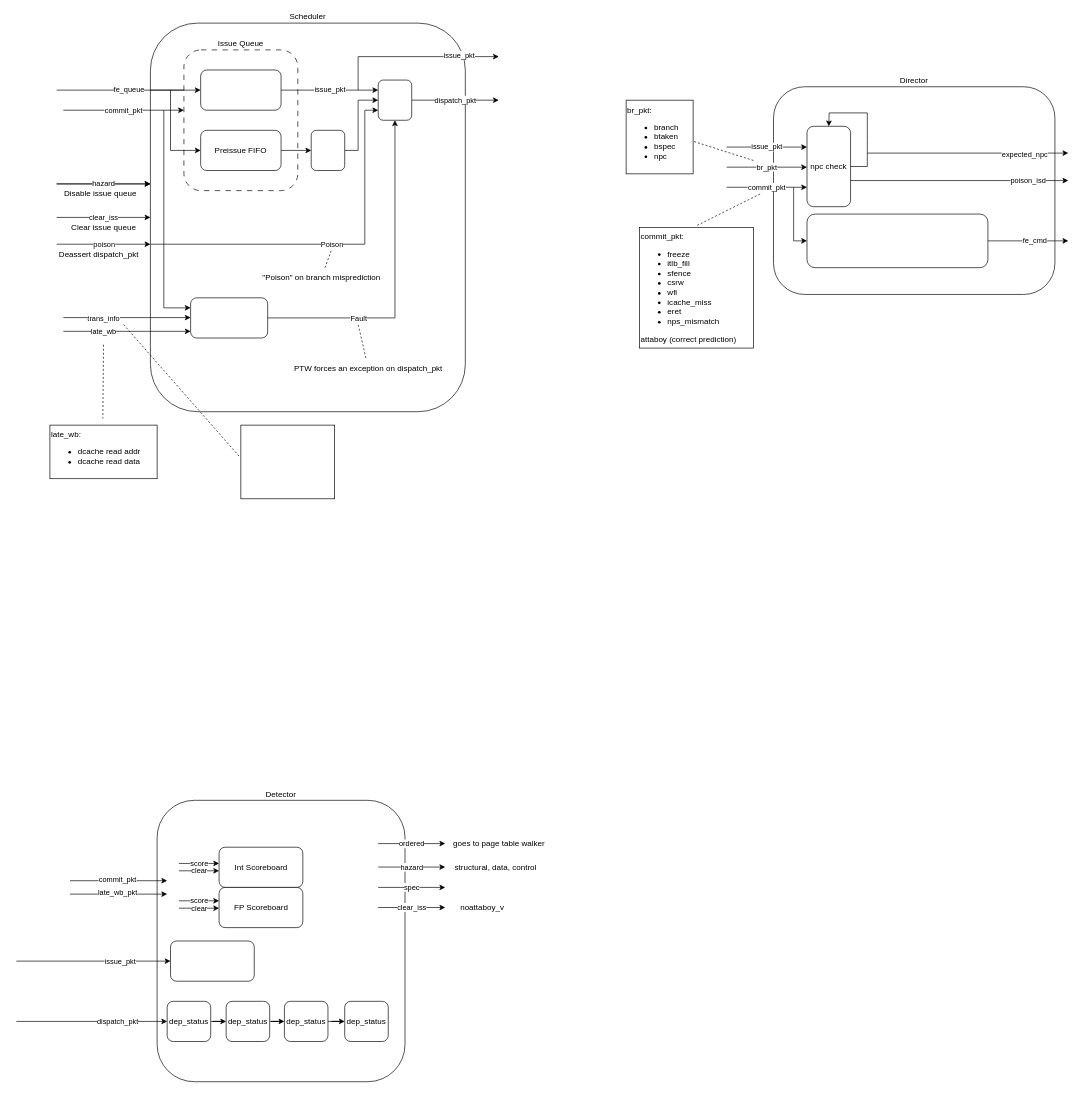
The diagram is 1085 pixels wide and 1093 high, and some of its shapes have lost their labels. The centre of each missing label's shape, as x and y in pixels:
"comb" belongs at point (395, 99).
"commit_pkt checks" belongs at point (897, 240).
"FIFO" belongs at point (240, 89).
"Hazard Detection" belongs at point (212, 960).
"Page Table Walker" belongs at point (229, 317).
"Register File" belongs at point (328, 150).
"trans_info: priv_mode base_ppn translation_en mstatus" belongs at point (287, 461).
